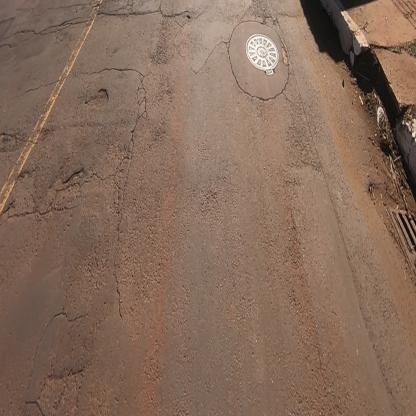manholes: (243, 27, 280, 87)
